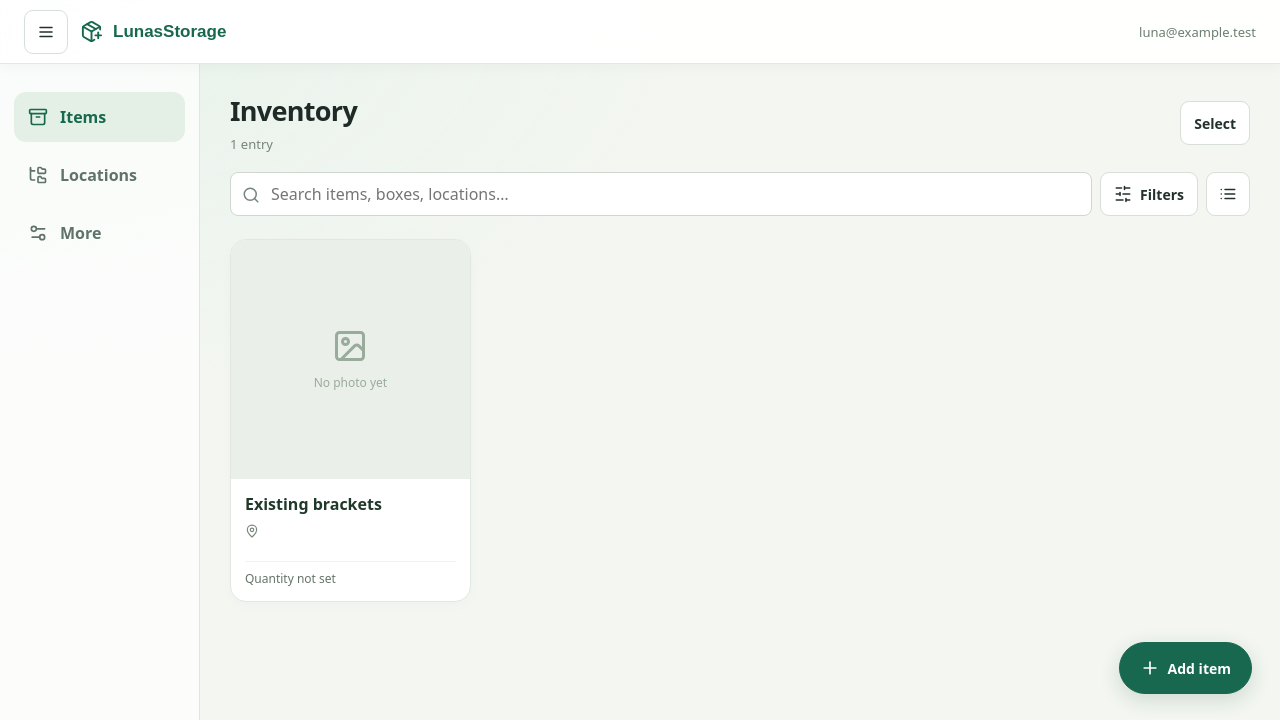
keeps selected items and displays a stale-deletion error
Click the button "Select" at (1215, 123), box [1180,101,1250,145]
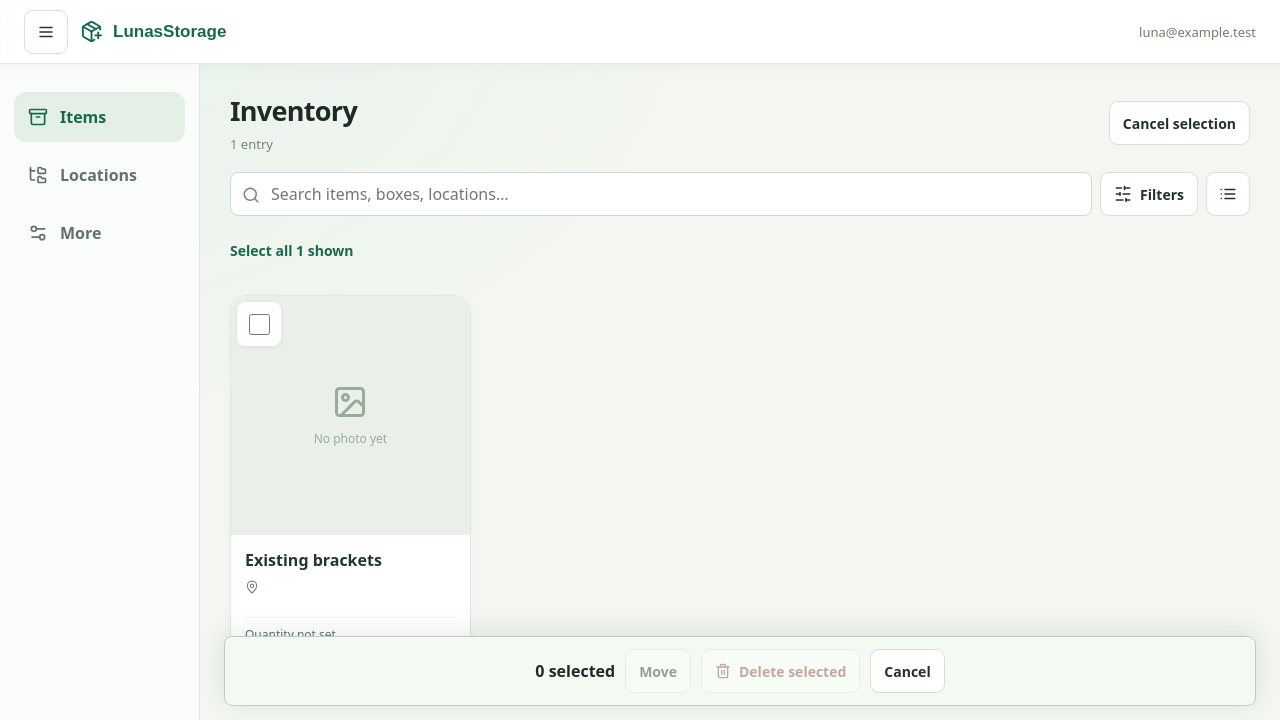
Click the checkbox named "Select Existing brackets" at (259, 324), box [248,314,270,335]
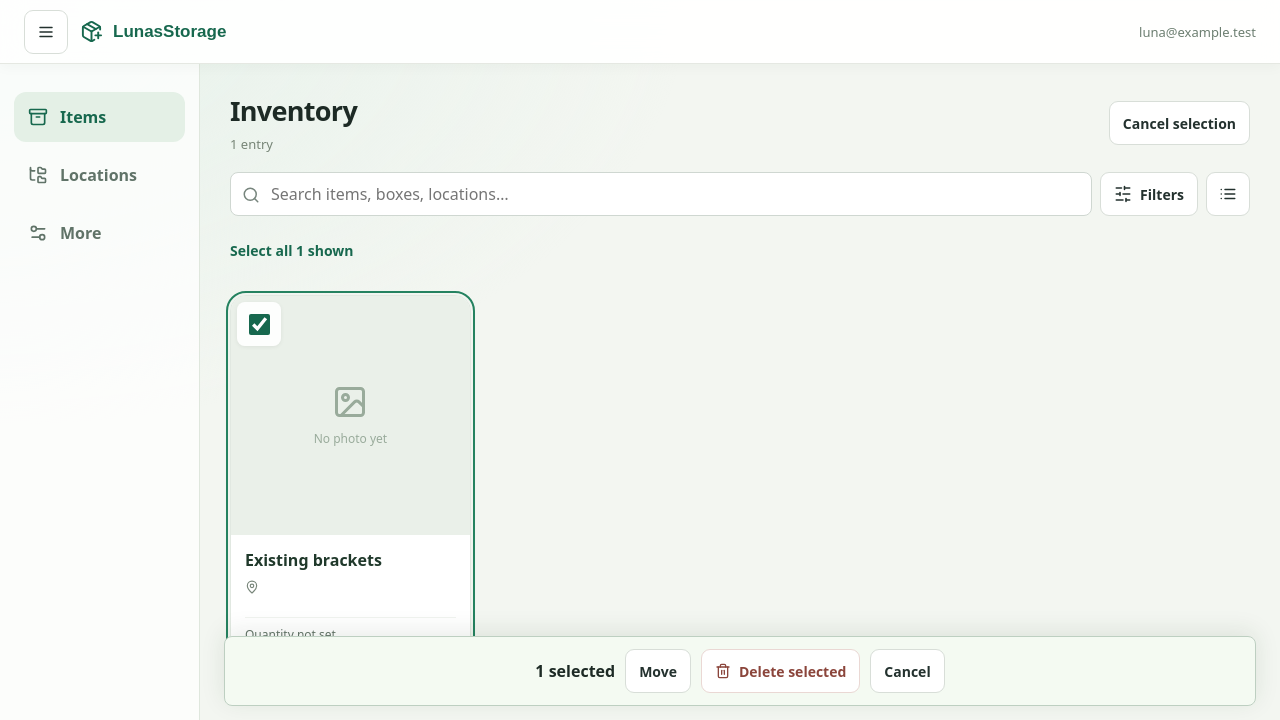
Expected: the button "Delete selected" is shown
Click the button "Delete selected" at (781, 671), box [701,649,860,693]
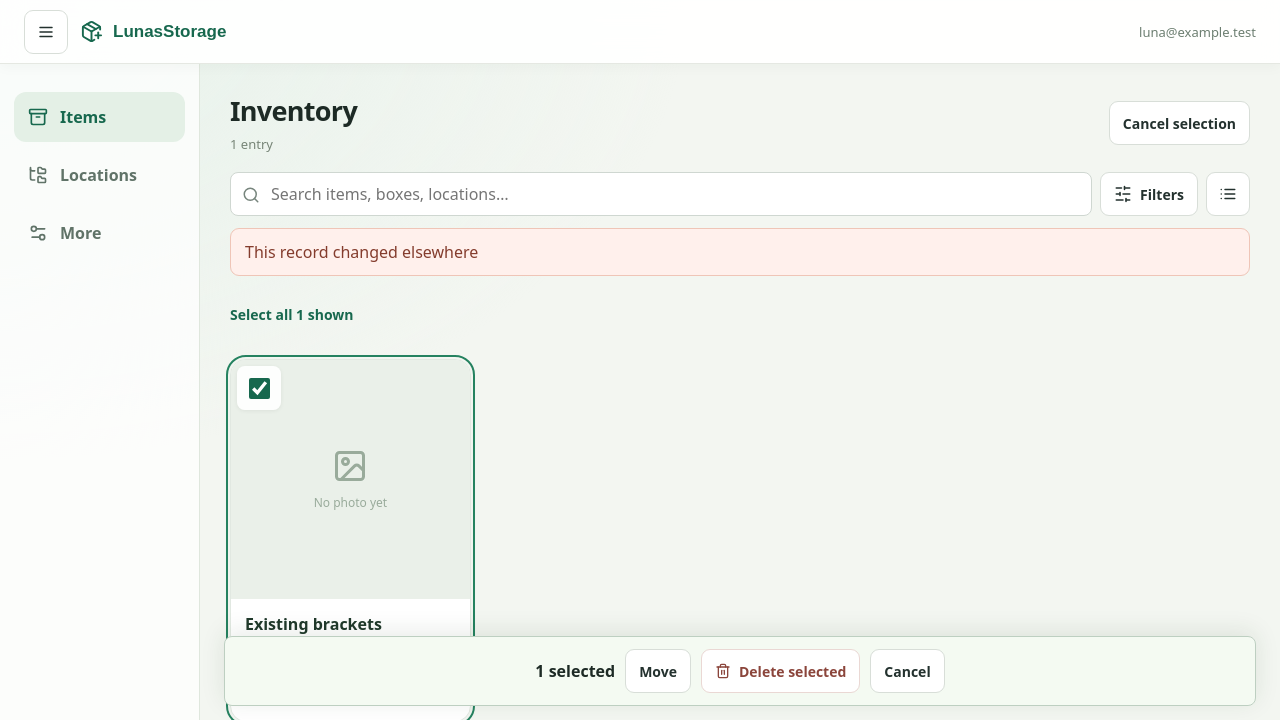
Expected: the checkbox named "Select Existing brackets" is checked, [248,378,270,399]
Expected: the text "This record changed elsewhere" is shown, [230,228,1250,276]
